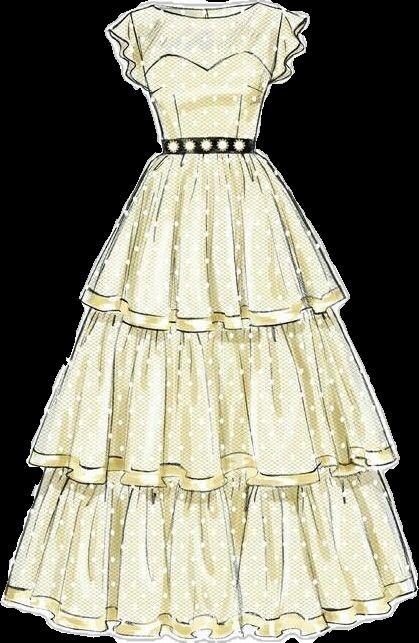Bodice: (128, 0, 286, 152)
Hemline: (0, 591, 418, 642), (25, 456, 401, 495), (73, 293, 352, 337)
Neckline: (141, 49, 274, 76), (148, 0, 261, 25)
Skirt: (1, 150, 417, 642)
Sleeve: (104, 7, 145, 96), (269, 10, 309, 87)
Sleeveline: (128, 9, 293, 88)
Waistline: (155, 144, 259, 157)
